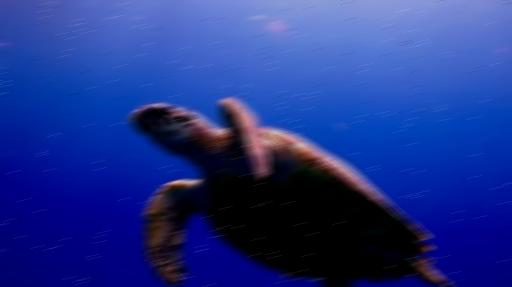Fish: (129, 99, 449, 286)
